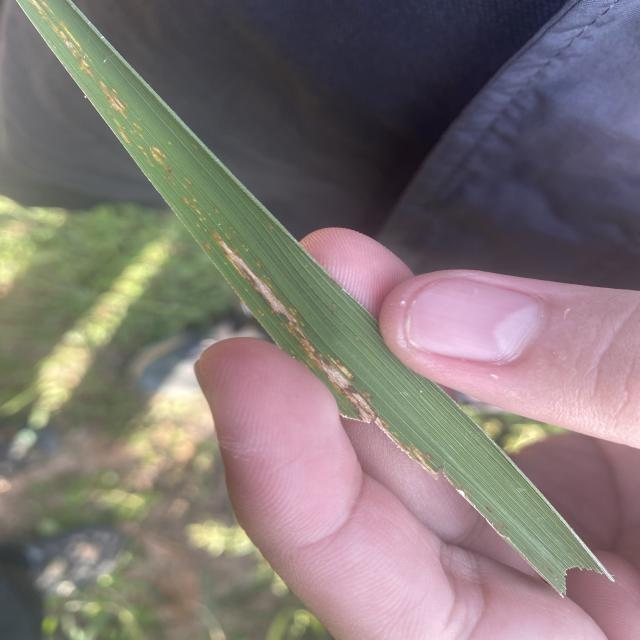Dom soc vi khuan: (212, 233, 379, 423)
